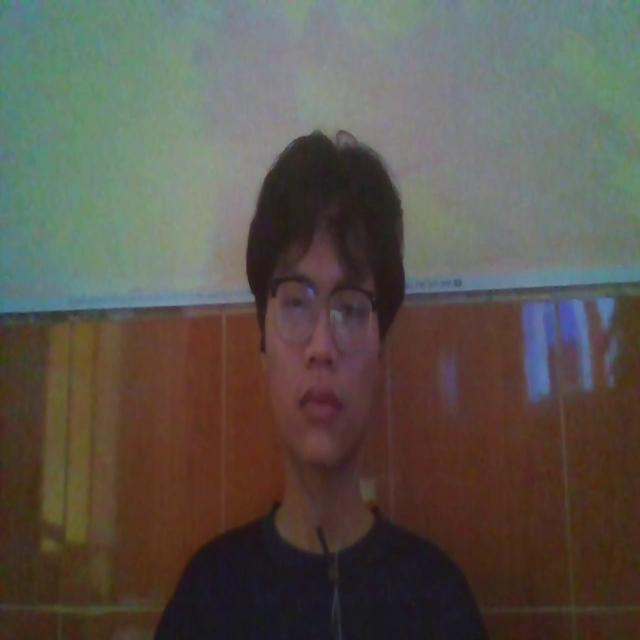student: (151, 128, 494, 640)
